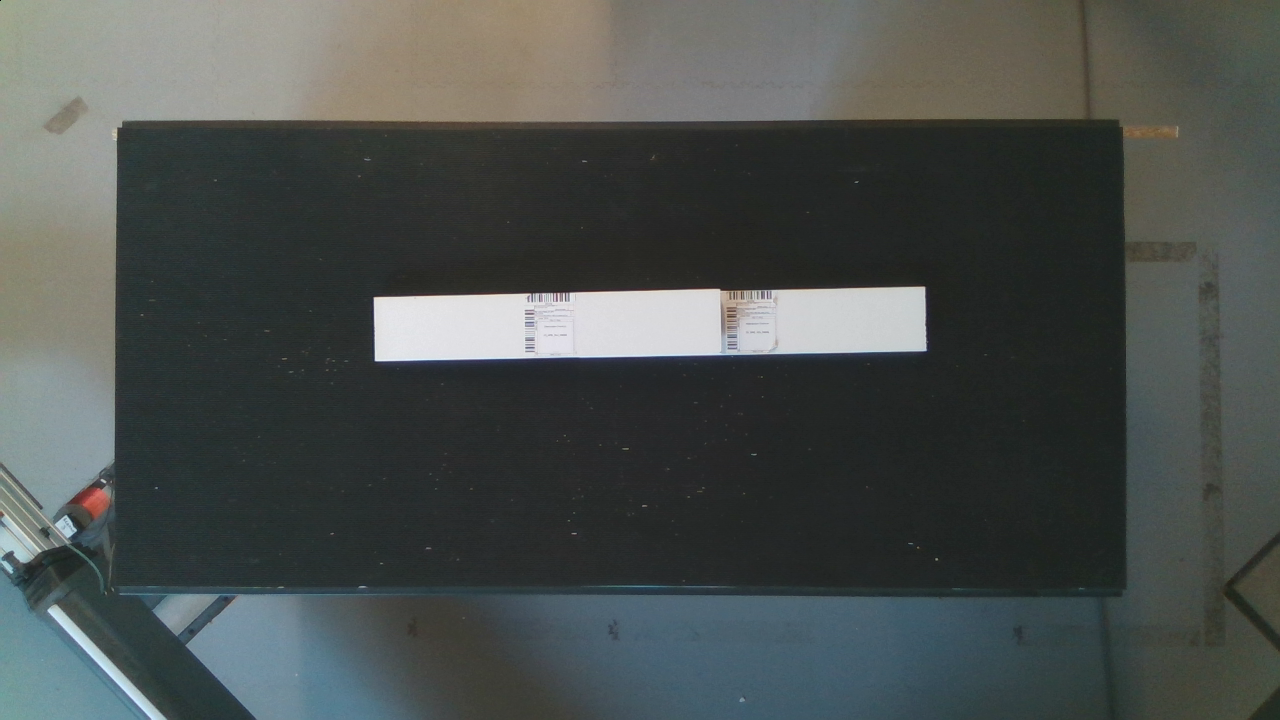barcode: (712, 287, 784, 360), (518, 286, 585, 364)
part1: (353, 284, 705, 374), (669, 271, 944, 364)
